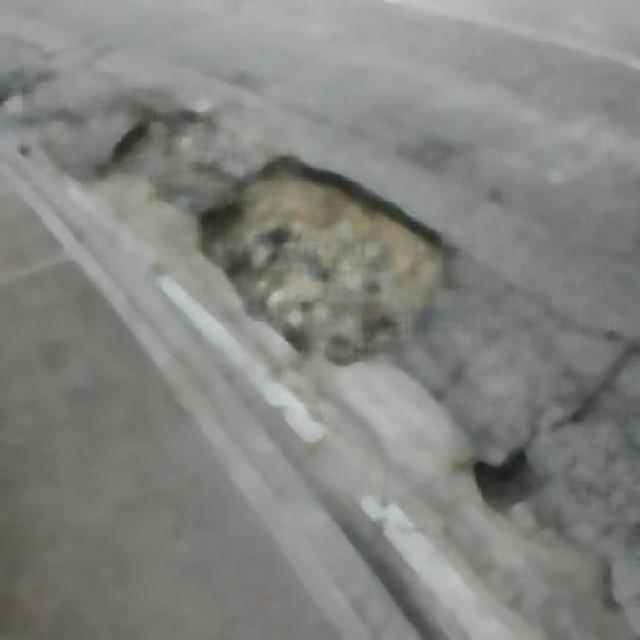Pothole: (198, 146, 450, 377), (108, 103, 223, 203)
